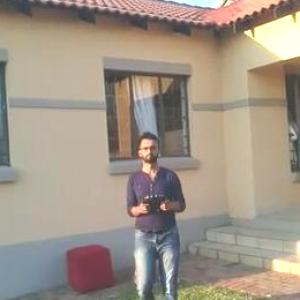follow: (119, 128, 189, 299)
